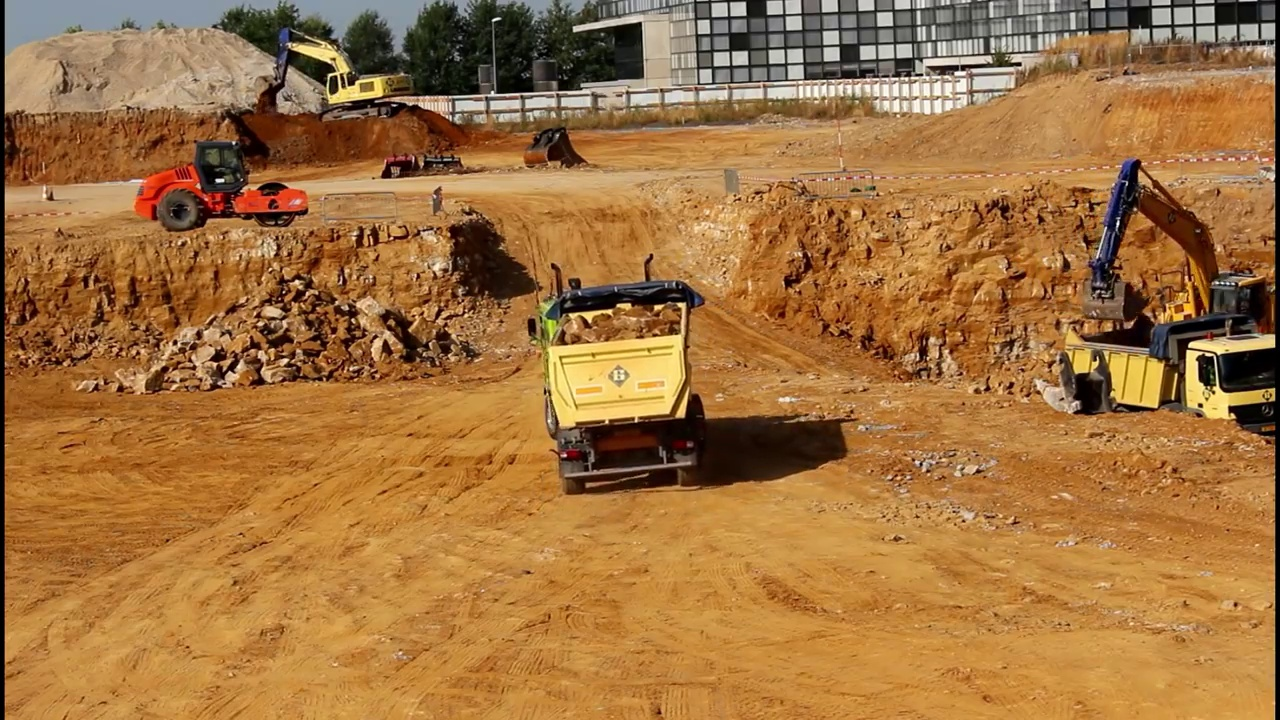compactor: (134, 136, 313, 230)
excavator: (1075, 155, 1280, 384), (258, 24, 416, 126)
truck: (529, 252, 713, 495), (1057, 312, 1280, 455)
